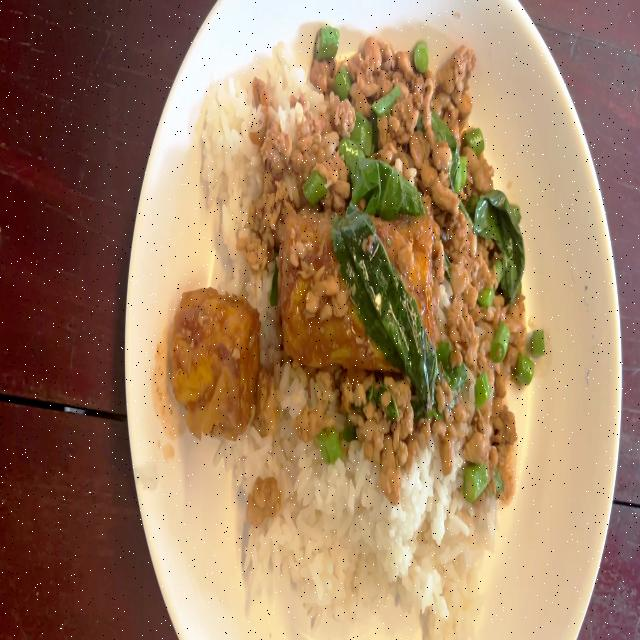fried_tofo: (282, 210, 432, 372), (170, 287, 262, 440), (173, 350, 214, 405)
minced_pork: (436, 204, 526, 498), (311, 41, 443, 220), (342, 370, 410, 452), (291, 236, 352, 322), (289, 117, 344, 206), (241, 177, 290, 275), (345, 38, 393, 100), (435, 45, 477, 113), (332, 124, 373, 185), (242, 260, 275, 334), (293, 396, 331, 444), (380, 435, 402, 504), (310, 56, 337, 92), (332, 98, 356, 138), (394, 49, 417, 82), (252, 76, 270, 115), (438, 436, 454, 476), (432, 91, 452, 117), (290, 145, 308, 173), (305, 289, 320, 314), (362, 233, 376, 256)
rice: (250, 409, 481, 631), (196, 62, 264, 222), (215, 352, 289, 497), (264, 40, 319, 130), (300, 449, 358, 531), (276, 360, 310, 423), (256, 293, 282, 369), (225, 78, 250, 122), (272, 39, 296, 81), (307, 555, 325, 600), (265, 51, 284, 91), (220, 104, 237, 148), (271, 72, 292, 105), (283, 172, 299, 204), (250, 105, 266, 133)
stir_fried_basil: (196, 26, 541, 636)
